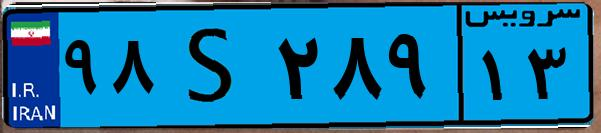1: (475, 38, 525, 113)
2: (270, 28, 330, 110)
3: (525, 38, 570, 115)
8: (330, 28, 385, 110), (110, 28, 158, 98)
9: (385, 28, 445, 110), (57, 26, 110, 100)
S: (158, 12, 270, 120)
